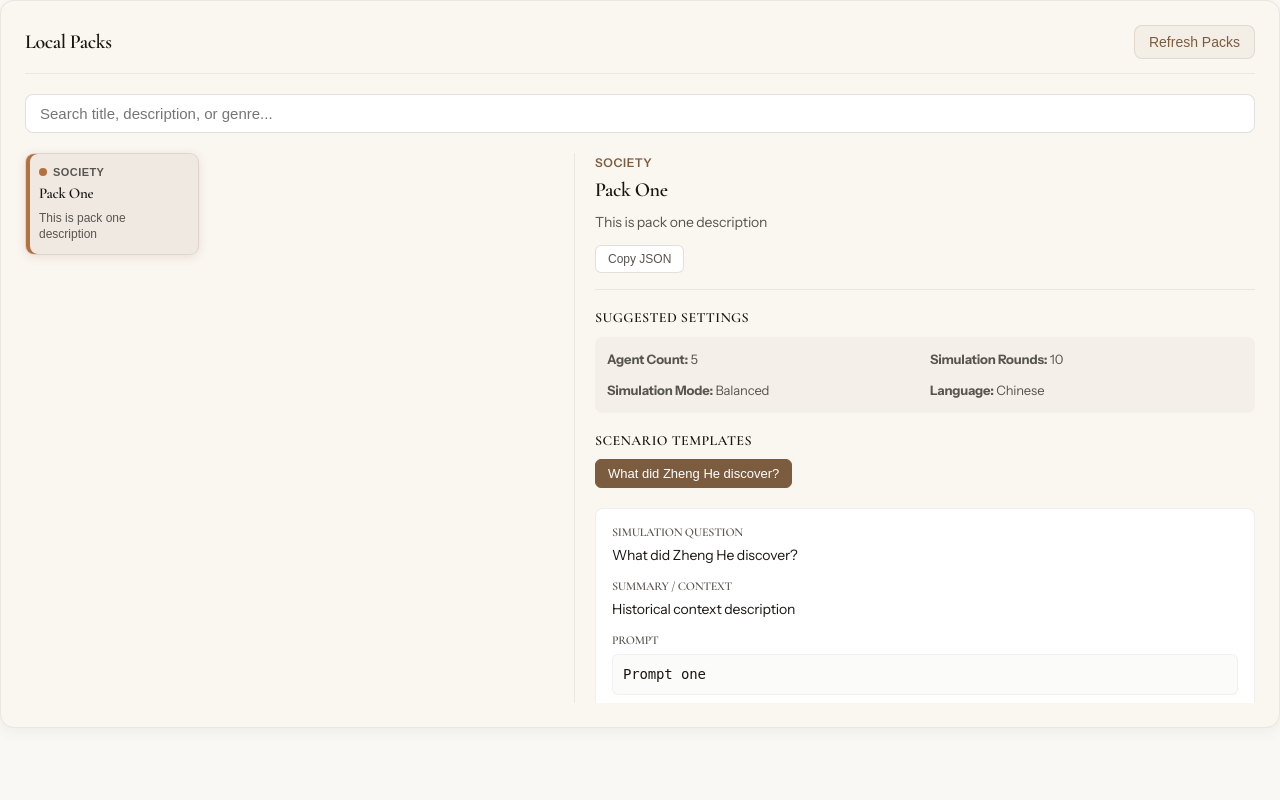
it: LocalPackPicker › reloads the selected pack detail when refresh returns the same pack id
The image size is (1280, 800).
Expected: the text "Prompt one" is shown, [612,654,1238,695]
Click the button "Refresh Packs". click: (1194, 42)
box: [1134,25,1255,59]
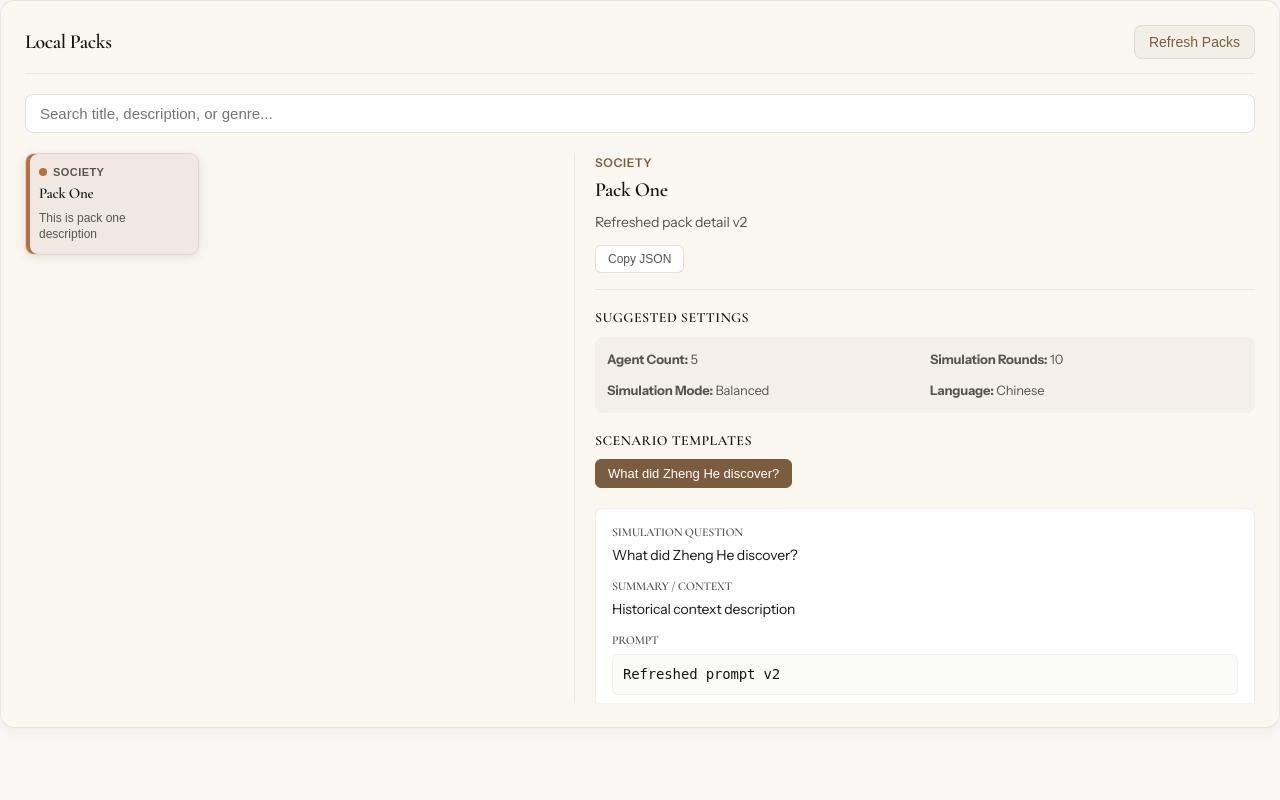
Expected: the text "Refreshed pack detail v2" is shown, [595,213,747,231]
Expected: the text "Refreshed prompt v2" is shown, [612,654,1238,695]
Expected: the text "Prompt one" is gone
